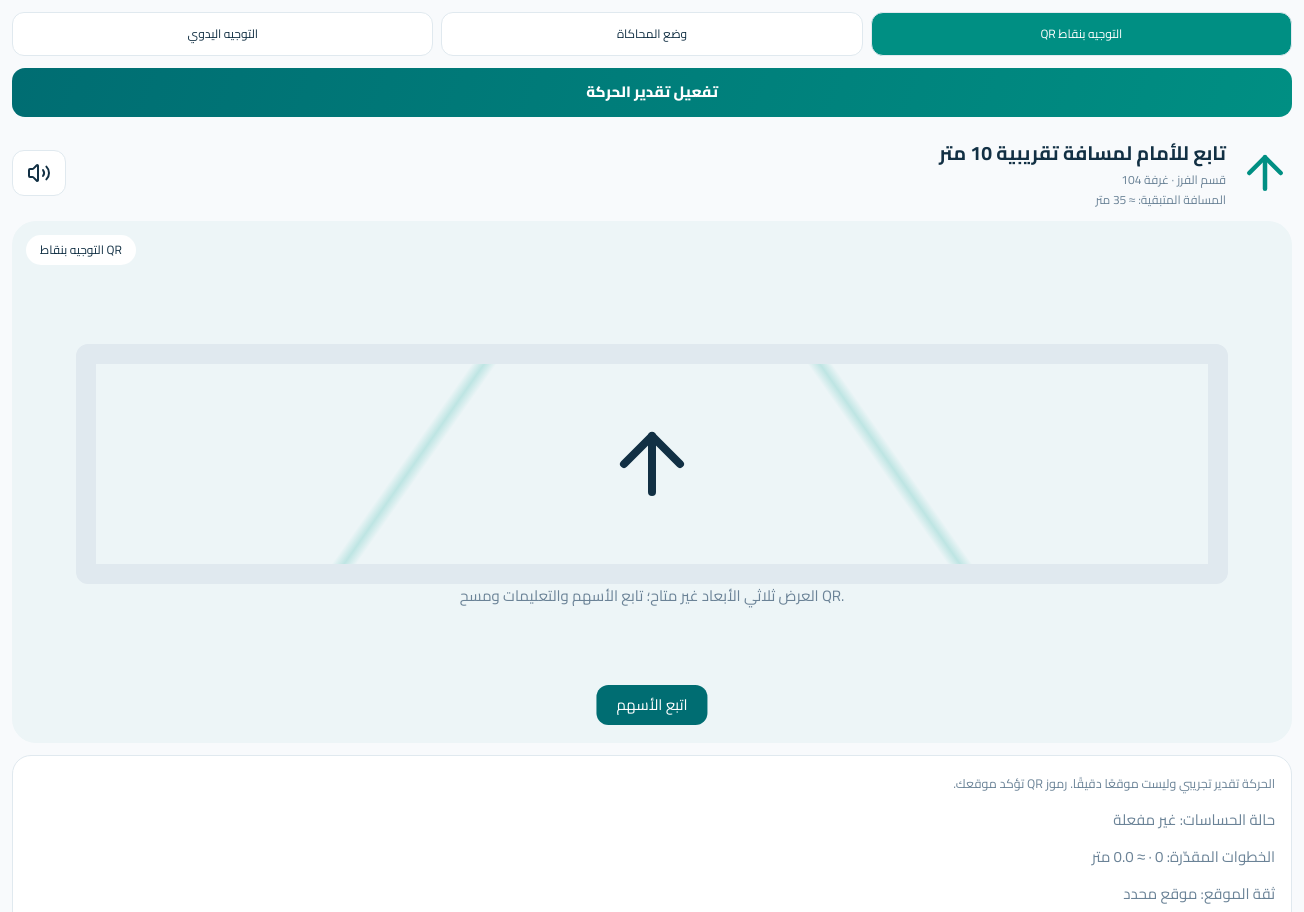
Test: simulation advances and pause freezes progress
Step 1. Click the button "وضع المحاكاة" → {"x": 652, "y": 34}, box [441, 12, 863, 56]
Wait 1000 ms
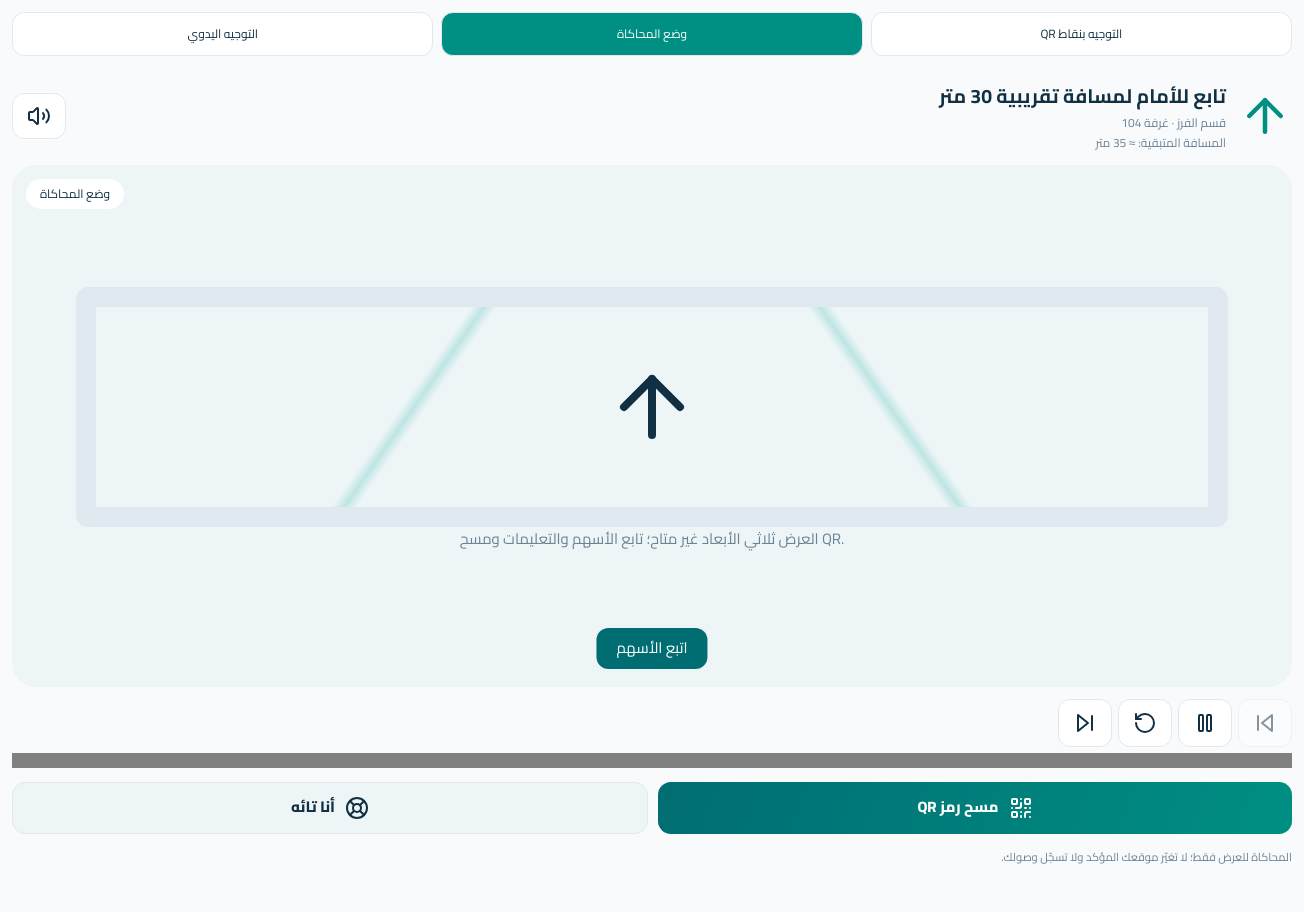
Step 2. Click the button named "إيقاف مؤقت" → {"x": 1205, "y": 723}, box [1178, 699, 1232, 747]
Wait 1000 ms
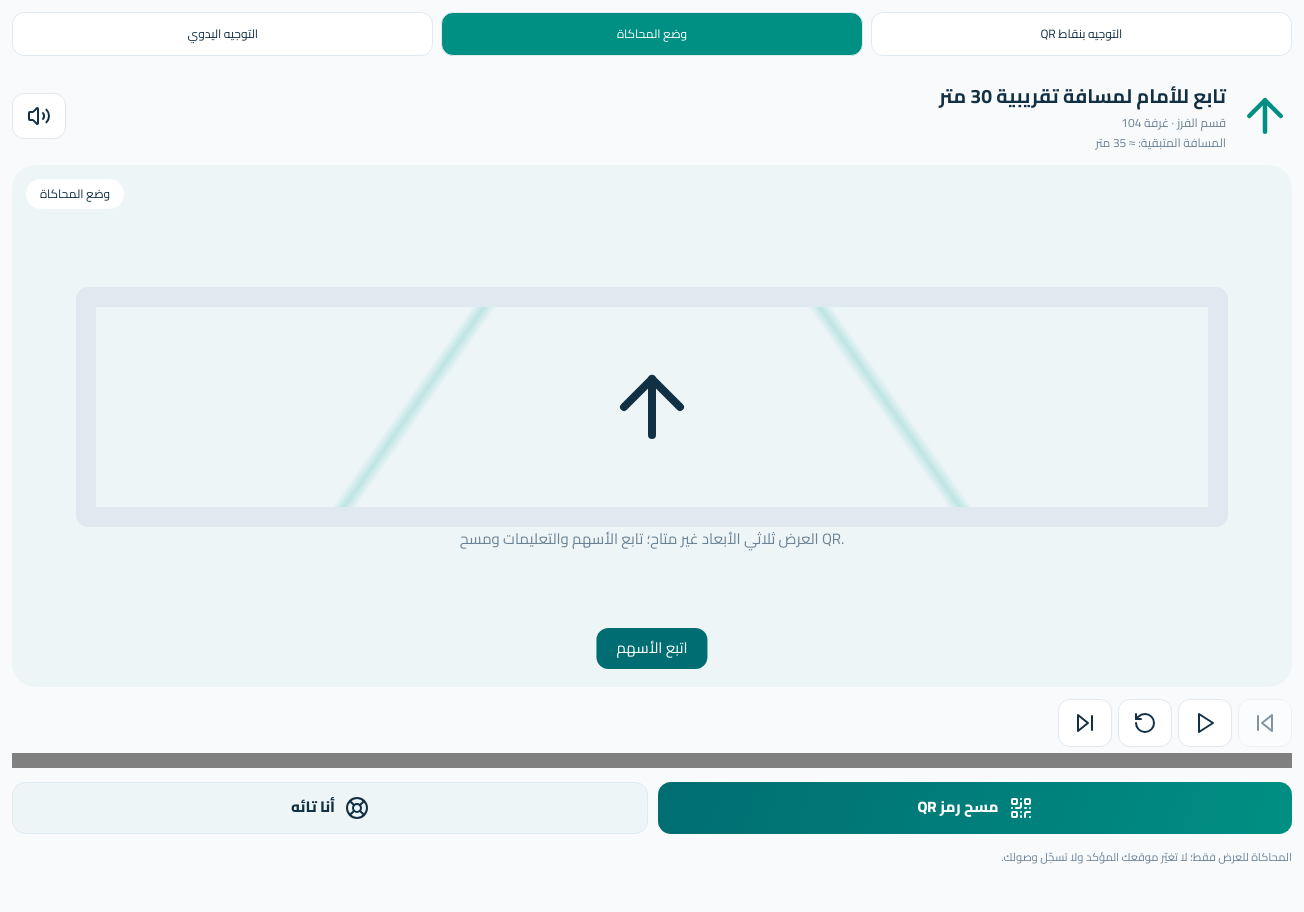
Check: the button named "استئناف" is shown, box [1178, 699, 1232, 747]
